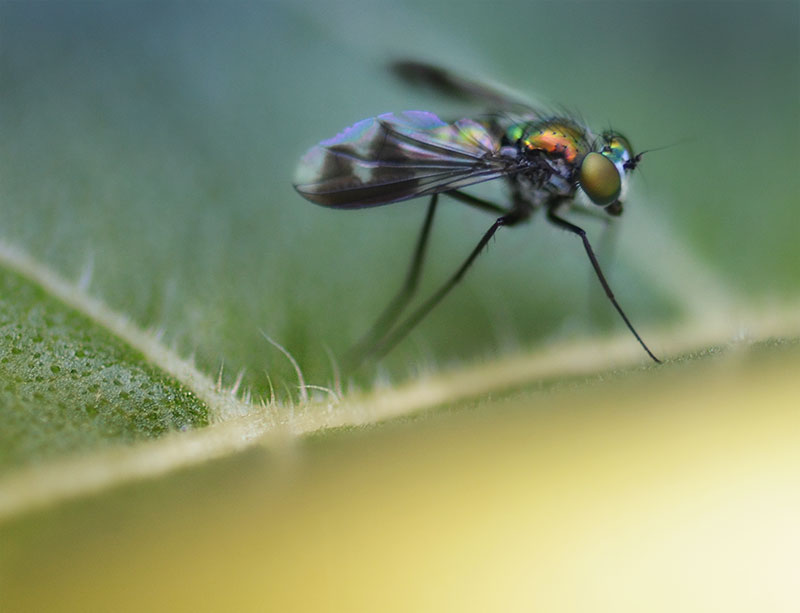green bottles fly: (280, 49, 711, 414)
